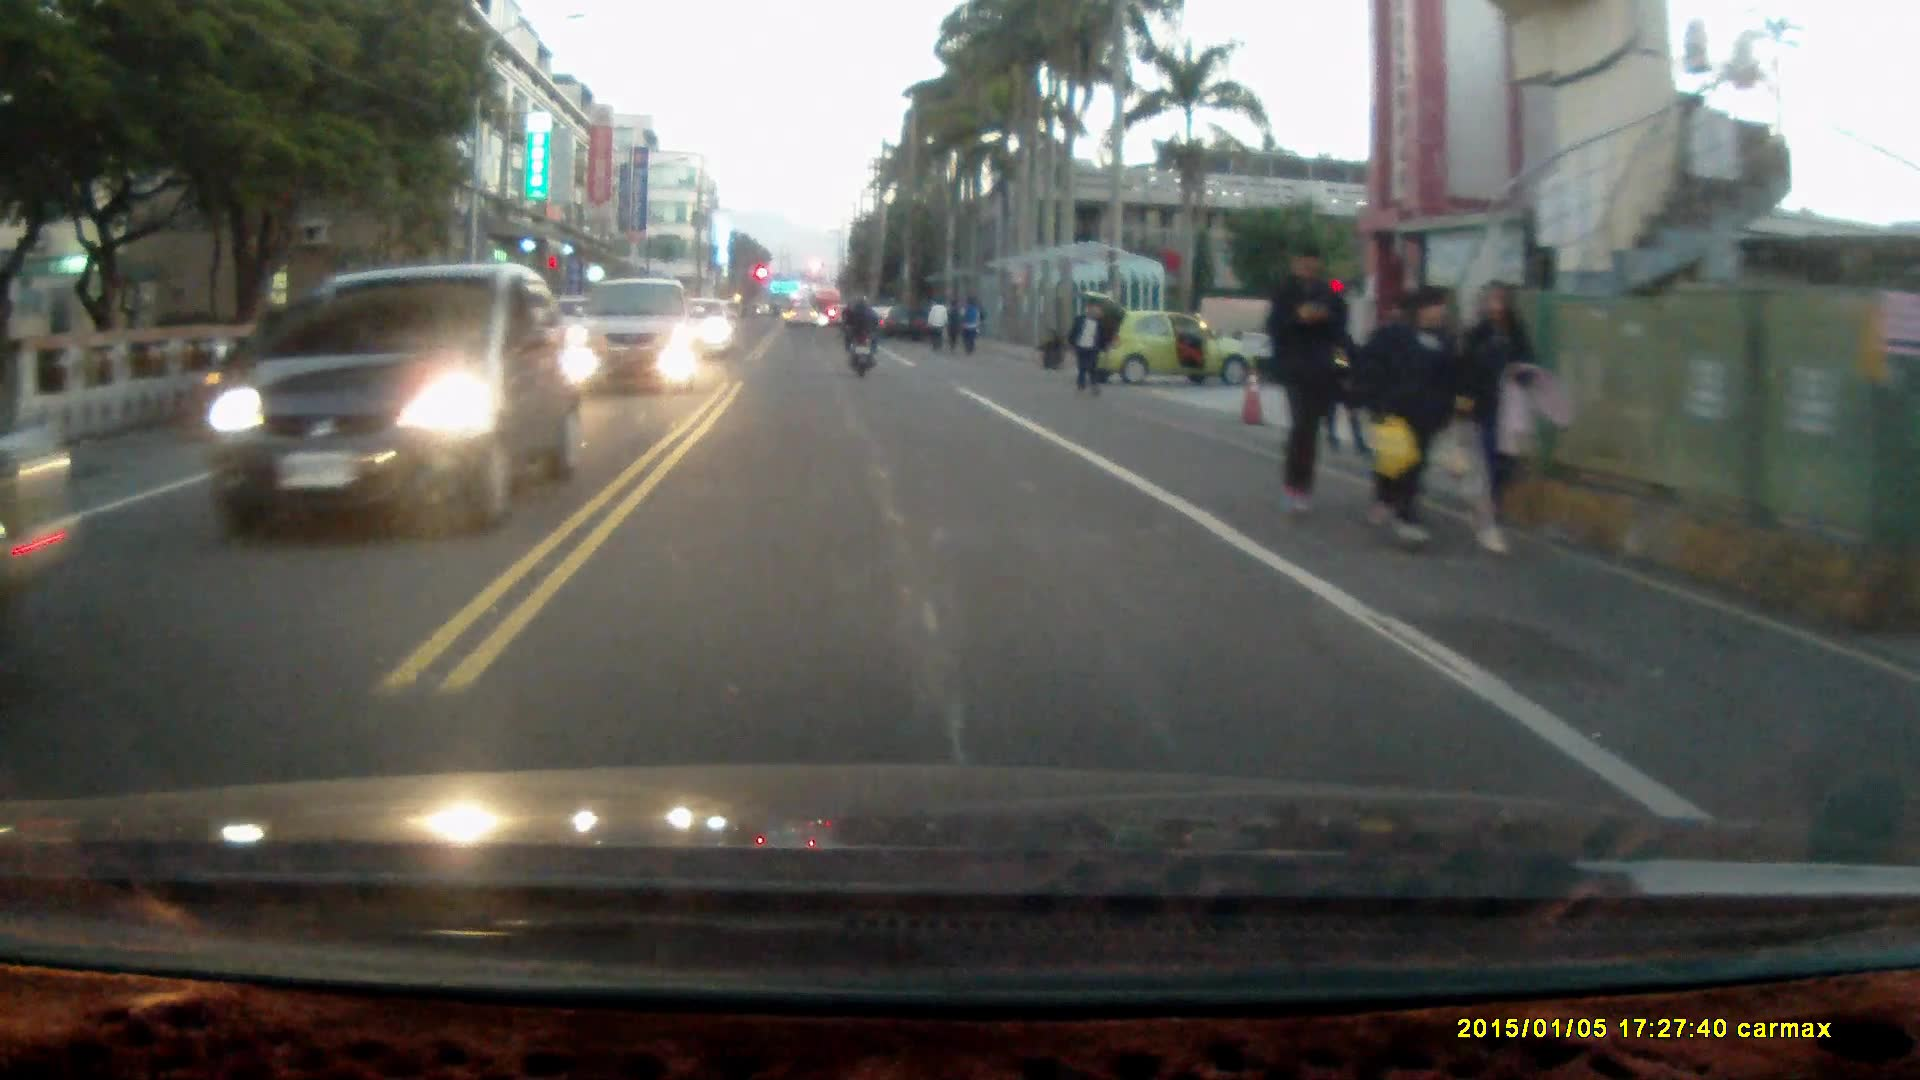pedestrian: (1358, 283, 1457, 553), (1451, 276, 1541, 560), (1260, 241, 1348, 525), (1067, 295, 1107, 400), (1032, 323, 1063, 371)
rider: (838, 294, 879, 381)
vehicle: (175, 264, 573, 539), (1077, 291, 1247, 386), (563, 277, 702, 391)
